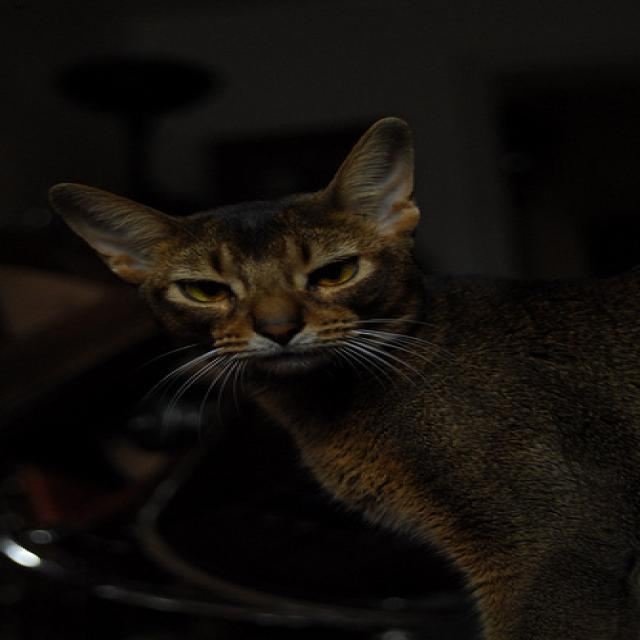Abyssinian: (31, 107, 456, 400)
